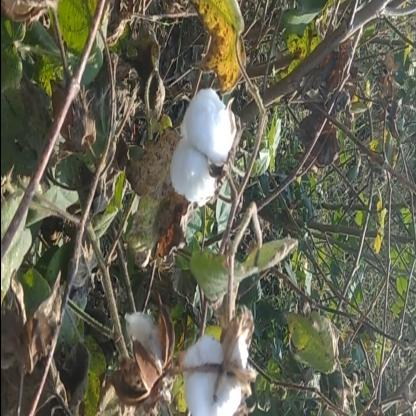cotton_ready: (156, 37, 252, 228)
